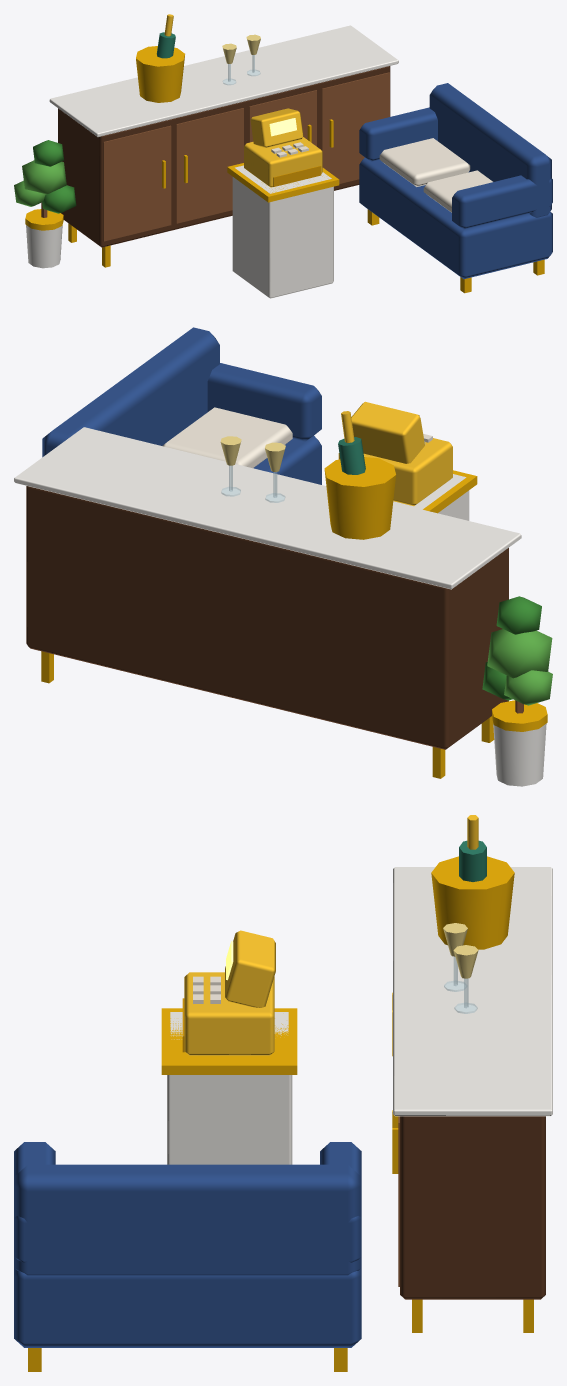
The model's file is station_special_1.glb.
3 renders of one model, top to bottom at view 1: azimuth 30°, elevation 25°; view 2: azimuth 150°, elevation 25°; view 3: azimuth 270°, elevation 25°, orthographic. The views are drawn at different scales.
Visible parts, largest first — view 1: station_special_1; view 2: station_special_1; view 3: station_special_1.
Boxes of the visible parts, x1,y1,x2,y2 form: station_special_1: [14, 14, 552, 298]; station_special_1: [14, 327, 552, 786]; station_special_1: [14, 815, 552, 1371].
Size of the model in its own units: 2.16 by 1.15 by 1.55.
